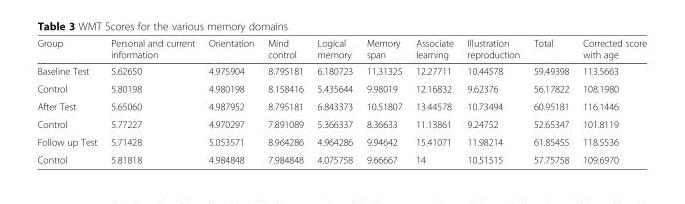table: (36, 37, 646, 164)
table column: (103, 37, 201, 164), (575, 37, 646, 164), (36, 37, 103, 164), (459, 37, 526, 164), (201, 37, 260, 164), (408, 37, 459, 164), (309, 37, 359, 164), (260, 37, 309, 164), (359, 37, 408, 164), (526, 37, 575, 164)
table column header: (36, 37, 646, 62)
table row: (36, 37, 646, 62), (36, 79, 646, 97), (36, 97, 646, 115), (36, 132, 646, 150), (36, 62, 646, 79), (36, 115, 646, 132), (36, 150, 646, 164)
